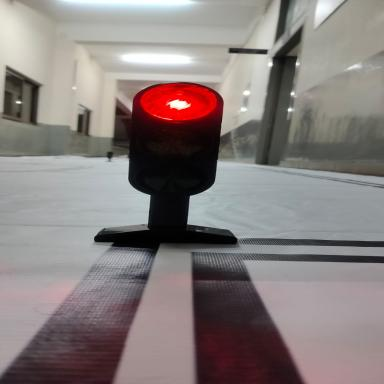traffic red: (98, 74, 264, 260)
